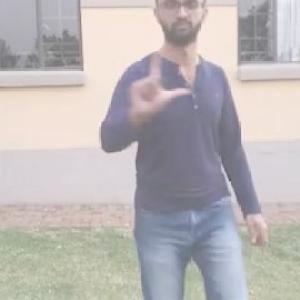land_hand: (118, 44, 194, 120)
